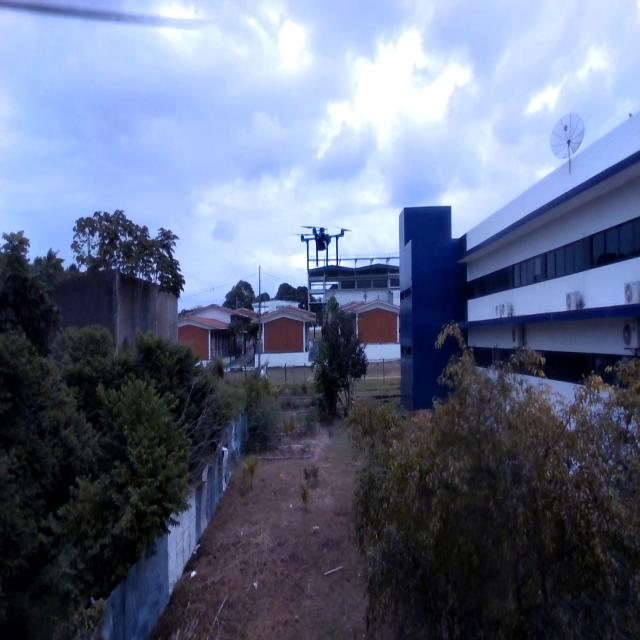-uav-: (293, 207, 356, 277)
